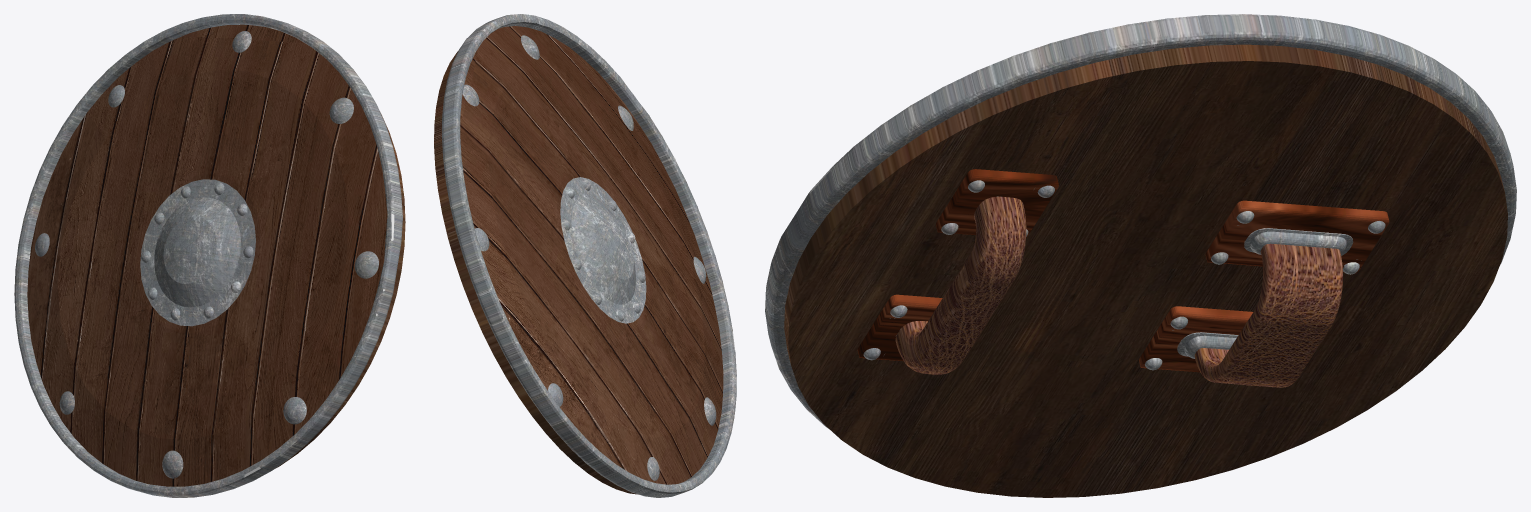
The model's file is roskilde-vikingskjold-spinning.glb.
The picture shows the model from 3 angles, left to right: view 1: azimuth 30°, elevation 25°; view 2: azimuth 150°, elevation 25°; view 3: azimuth 270°, elevation 25°; orthographic projection. The views are drawn at different scales.
Visible parts, largest first — view 1: skjold; view 2: skjold; view 3: skjold.
Part boxes in pixels (x1,y1,x2,y2): skjold: (14, 14, 405, 497); skjold: (434, 14, 736, 497); skjold: (765, 14, 1516, 497).
Bounding box in the file's own units: 0.5352 × 0.8269 × 0.9213.
6 materials, 5 textured.
